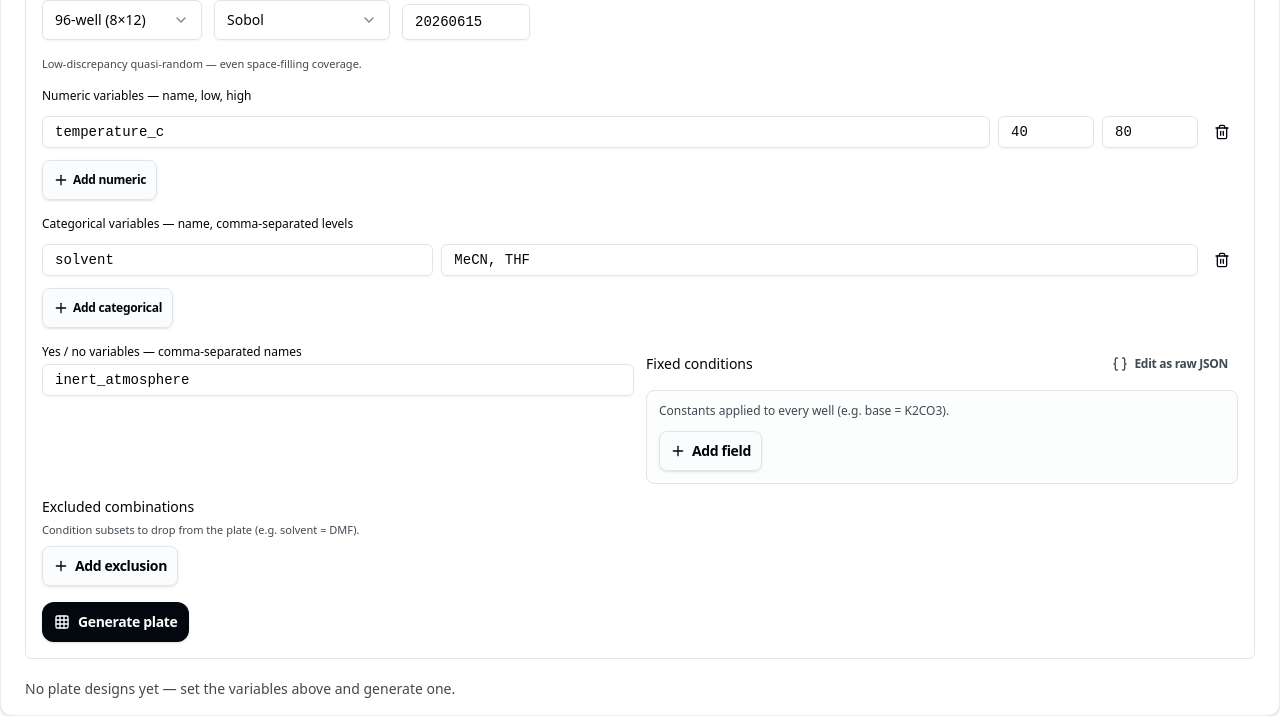
Test: PlateDesignPanel › generates a plate with the prefilled design space and renders the map
This screenshot has width=1280, height=716.
(page scrolled)
Click the button "Generate plate".
click(116, 622)  # box [42, 602, 190, 642]
(page scrolled)
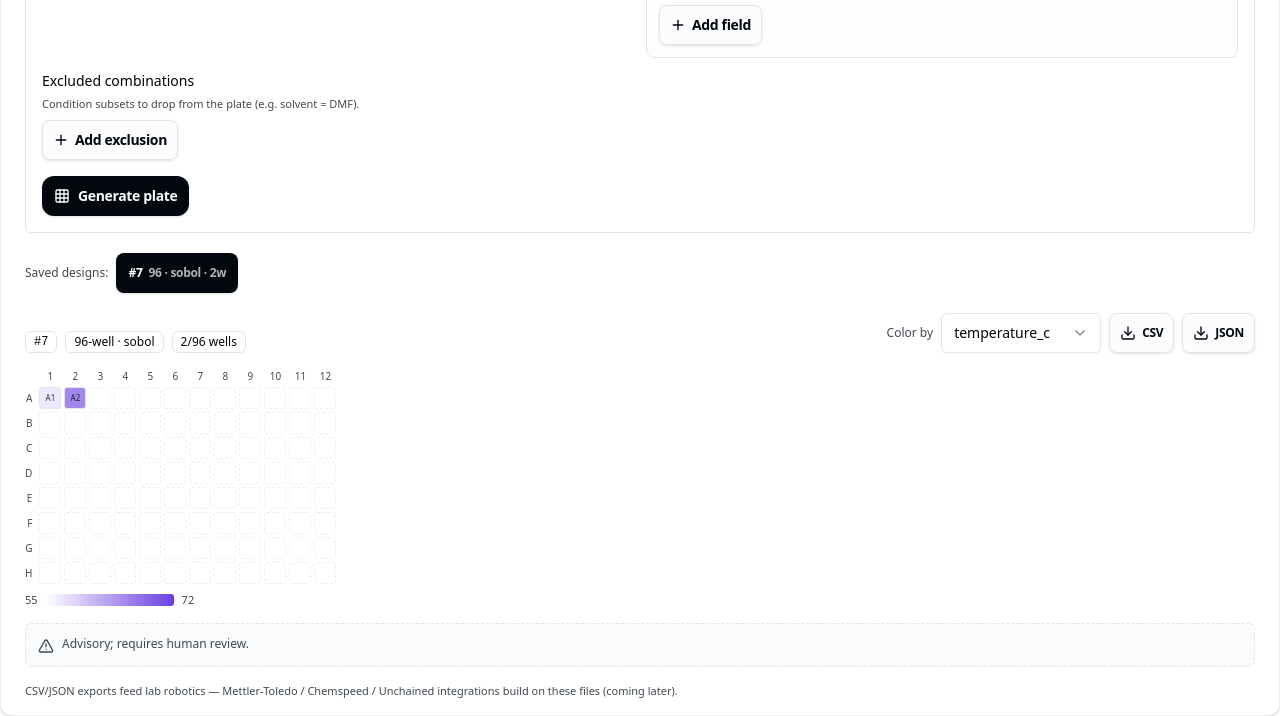
Check: the text "A1" is shown, box [39, 387, 61, 409]
Check: the text "A2" is shown, box [64, 387, 86, 409]
Check: the text "Advisory; requires human review." is shown, box [62, 636, 249, 652]
